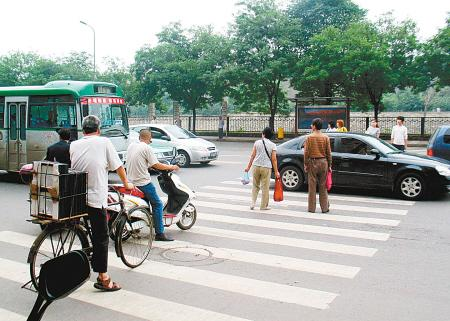bicycle: (29, 186, 155, 294)
bus: (0, 80, 130, 179)
car: (262, 131, 450, 201), (128, 124, 219, 167), (426, 124, 450, 161)
motorcycle: (107, 170, 198, 235)
person: (69, 116, 134, 290), (125, 128, 181, 237), (302, 118, 333, 213), (246, 127, 279, 212), (45, 128, 72, 166), (390, 115, 408, 151), (365, 119, 381, 139), (334, 119, 349, 132)
